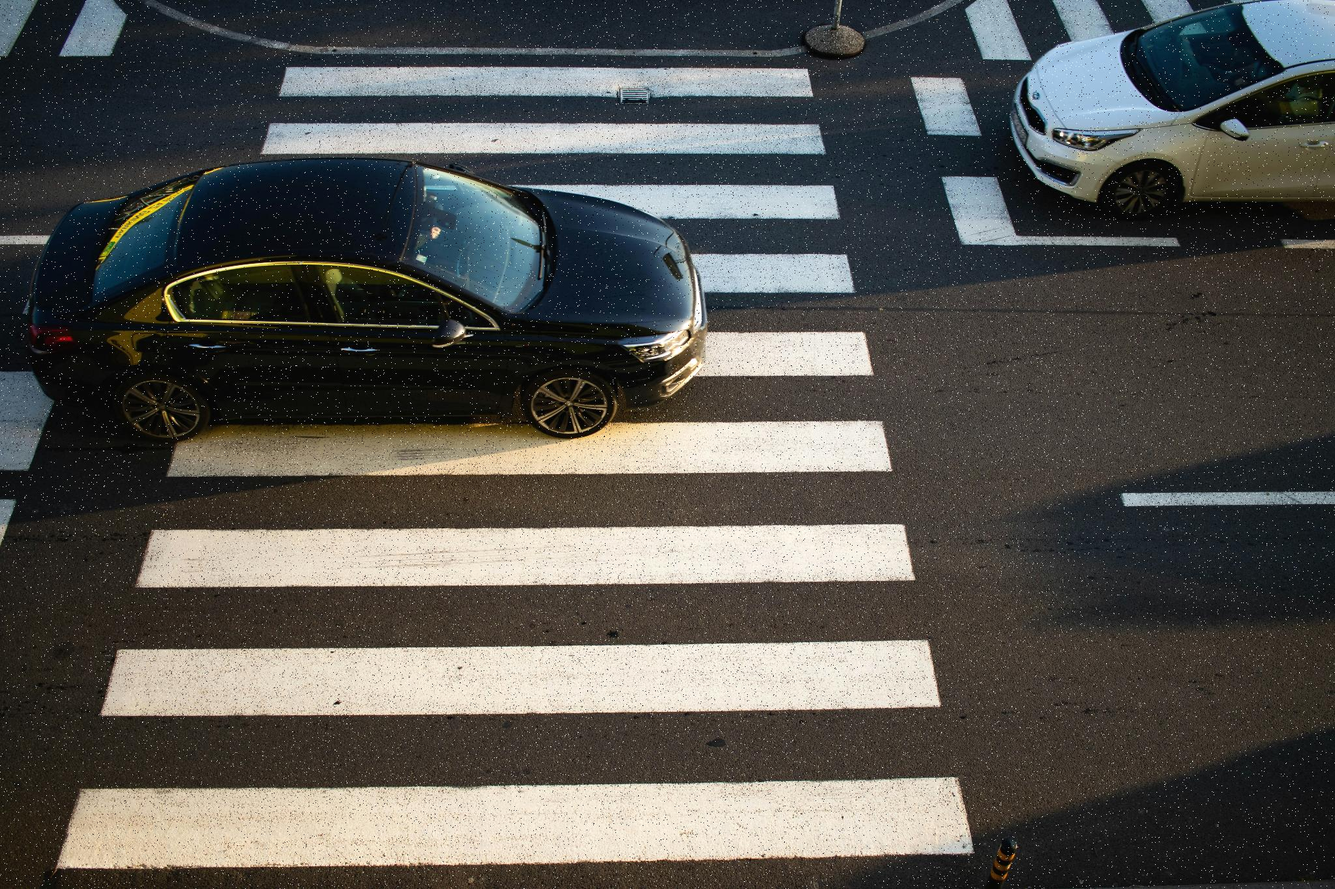car: (16, 161, 703, 445), (1008, 0, 1332, 216), (1009, 425, 1335, 626)
